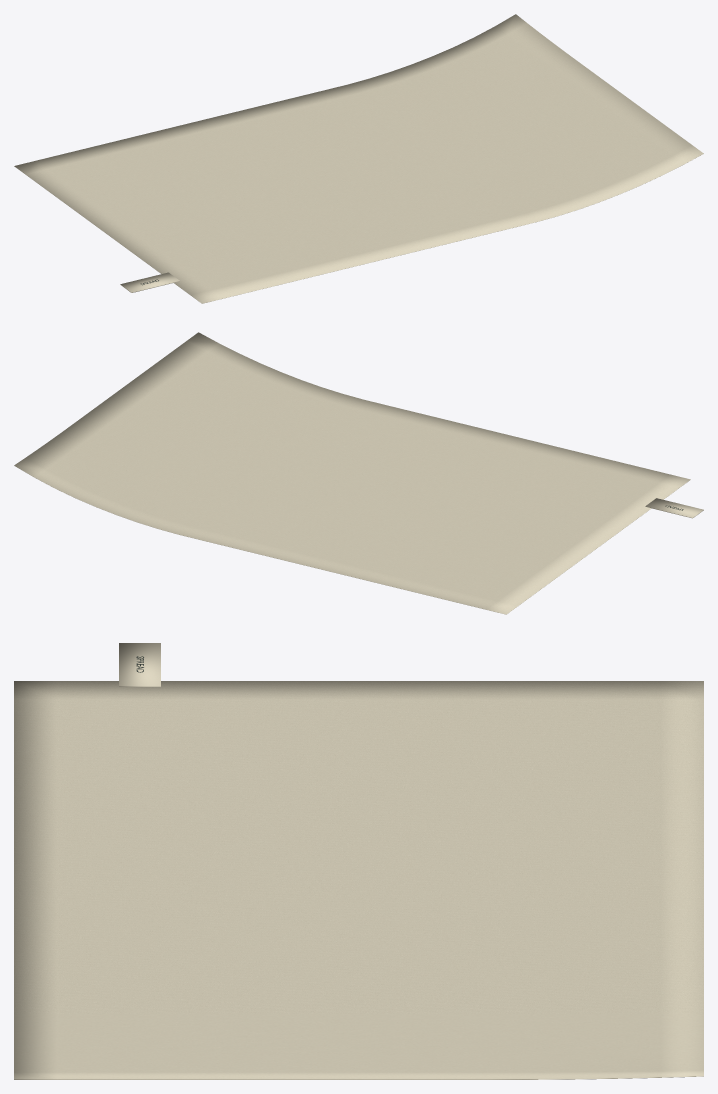
File: workpaper_spread.glb
3 views of the same model, one above another, from view 1: azimuth 30°, elevation 25°; view 2: azimuth 150°, elevation 25°; view 3: azimuth 270°, elevation 25° (orthographic). The views are drawn at different scales.
Parts seen in each view (by area): view 1: workpaper_spread__PaperSurface, workpaper_spread__Tab; view 2: workpaper_spread__PaperSurface, workpaper_spread__Tab; view 3: workpaper_spread__PaperSurface, workpaper_spread__Tab.
Boxes of the visible parts, x1,y1,x2,y2 form: workpaper_spread__PaperSurface: [14, 14, 703, 303]; workpaper_spread__Tab: [120, 272, 179, 292]; workpaper_spread__PaperSurface: [14, 332, 690, 614]; workpaper_spread__Tab: [645, 498, 703, 518]; workpaper_spread__PaperSurface: [14, 681, 703, 1079]; workpaper_spread__Tab: [119, 643, 160, 686].
Bounding box in the file's own units: 1.24 × 0.0644 × 0.74.
3 materials, 2 textured.
